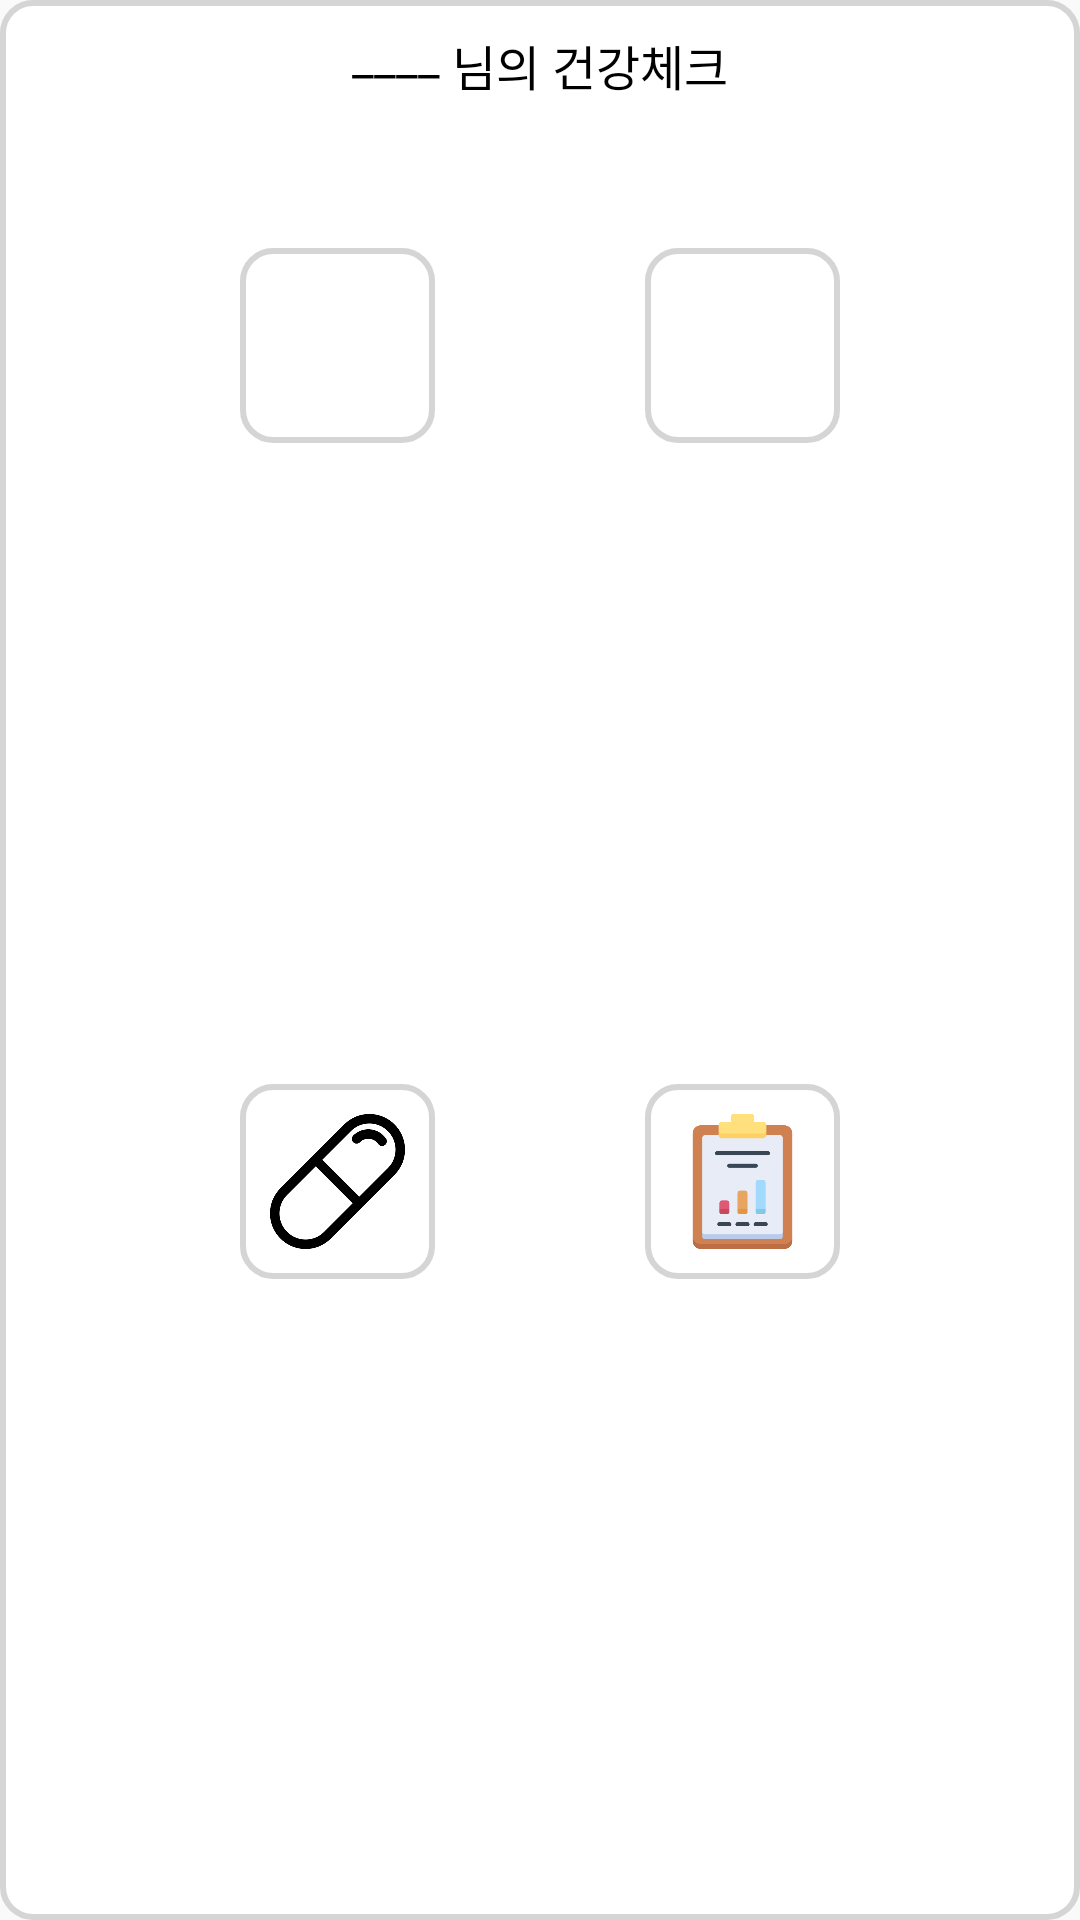

Screen size 1080px×1920px. Icon name, then its center in pixels as (x,y):
share prescription: (337,1181)
share report: (742,1181)
